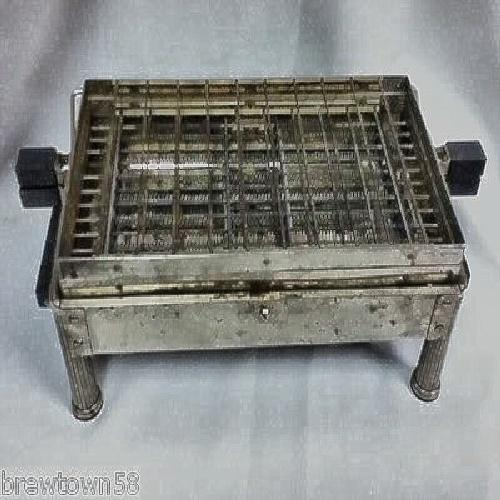toaster: (31, 74, 476, 402)
